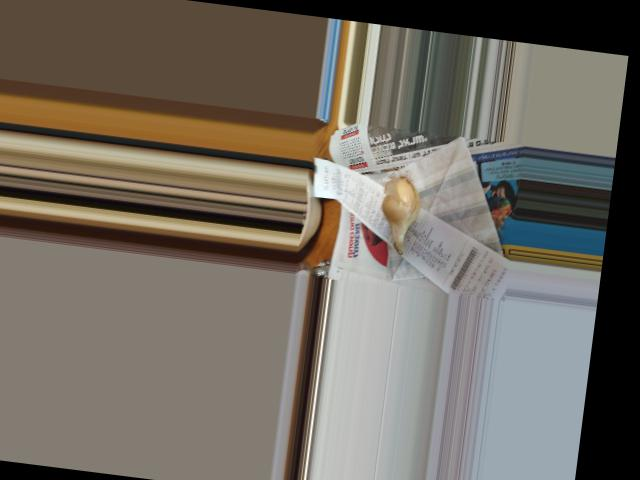onion: (377, 177, 427, 244)
